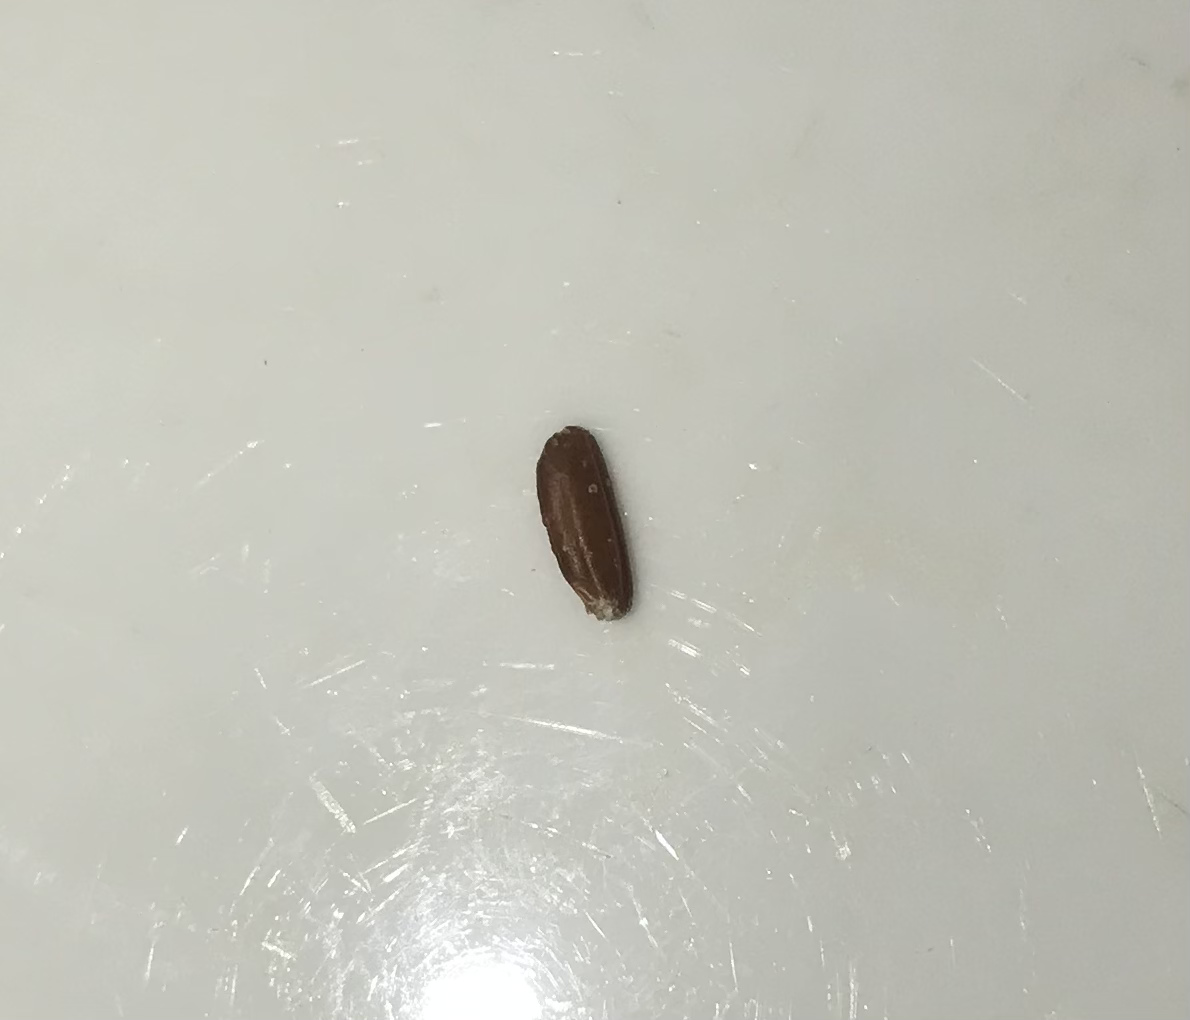Gao Lut Do: (523, 414, 639, 634)
